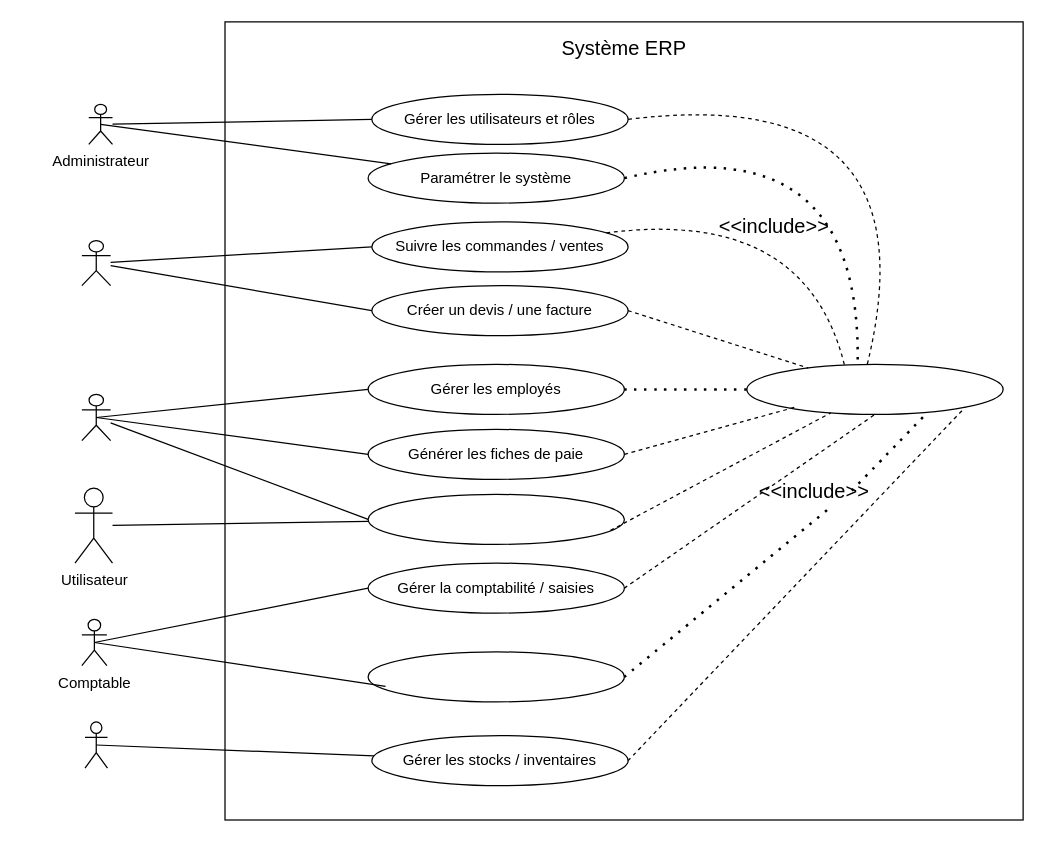
This 1045x843 diagram has some shape labels left out. The centre of each missing label's shape, as x and y in pixels:
Employé RH: the point at 96,417
Gérer les congés / absences: the point at 495,518
Magazinier: the point at 96,744
Responsable de vente: the point at 96,262
S'authentifier: the point at 874,388
Éditer bilans et états financiers: the point at 495,676
